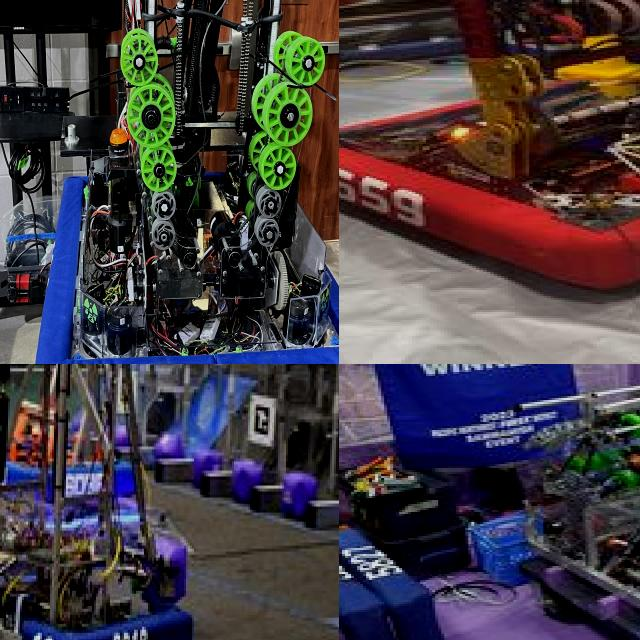FRC-Robots: (0, 0, 339, 364), (339, 0, 640, 305), (0, 364, 229, 640), (462, 364, 640, 611)
